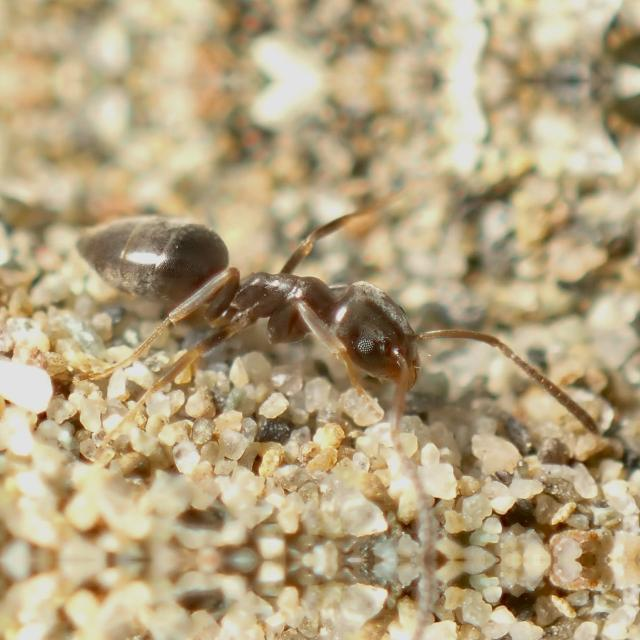Tapinoma: (42, 181, 518, 429)
